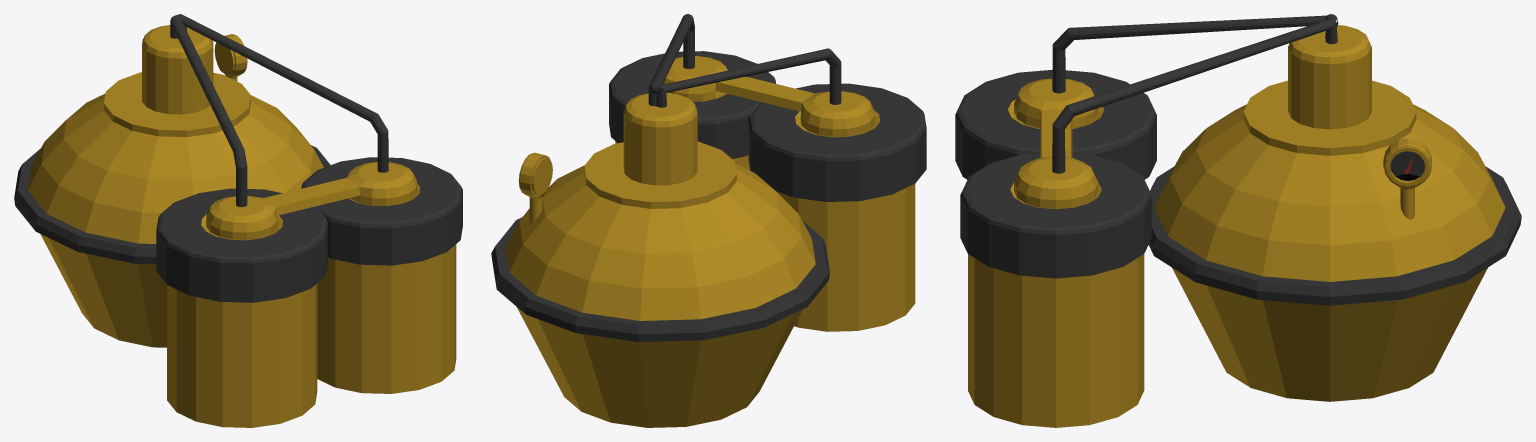
Rendered from Engine1.fbx.
The picture shows the model from 3 angles, left to right: view 1: azimuth 30°, elevation 25°; view 2: azimuth 150°, elevation 25°; view 3: azimuth 270°, elevation 25°; orthographic projection. The views are drawn at different scales.
Visible parts, largest first — view 1: Circle.022; view 2: Circle.022; view 3: Circle.022.
Boxes of the visible parts, left/top/right/bottom form: Circle.022: left=14, top=14, right=462, bottom=427; Circle.022: left=491, top=14, right=926, bottom=427; Circle.022: left=955, top=14, right=1521, bottom=427.
Size of the model in its own units: 117 by 109 by 165.
